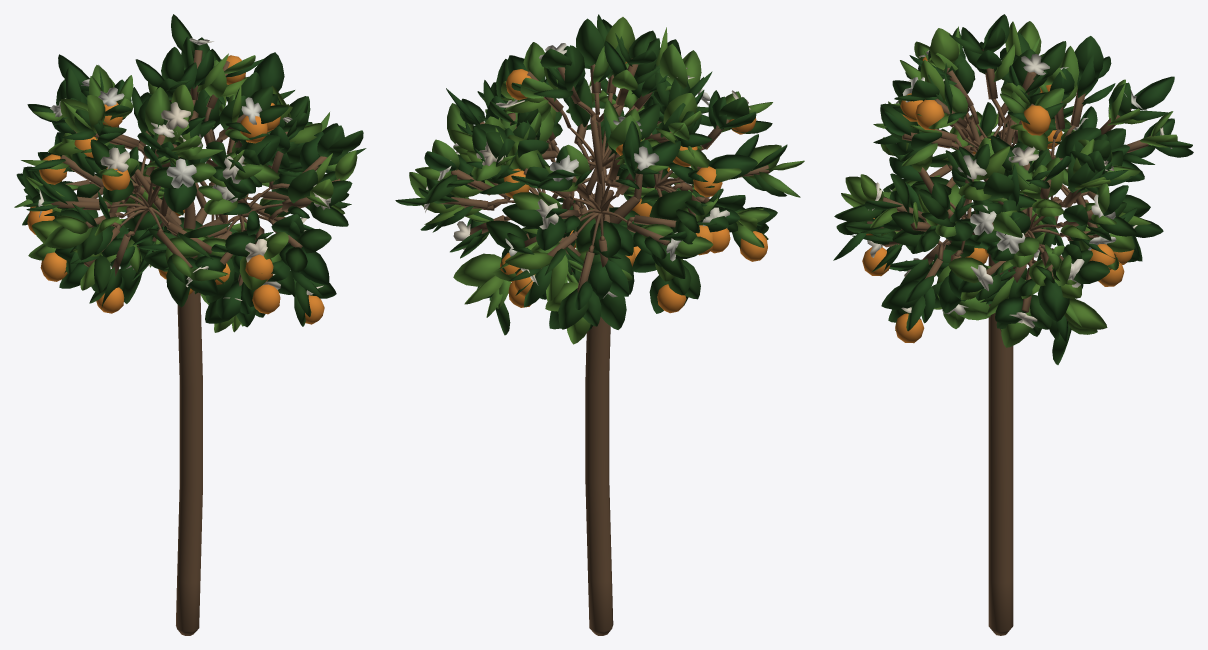
File: potfill_orange.glb
3 renders of one model, left to right at view 1: azimuth 30°, elevation 25°; view 2: azimuth 150°, elevation 25°; view 3: azimuth 270°, elevation 25°, orthographic. The views are drawn at different scales.
Parts seen in each view (by area): view 1: Sammel Pflanze, Sammel Holz; view 2: Sammel Pflanze, Sammel Holz; view 3: Sammel Pflanze, Sammel Holz.
Boxes of the visible parts, x1,y1,x2,y2 form: Sammel Pflanze: (14, 14, 366, 332); Sammel Holz: (50, 50, 340, 635); Sammel Pflanze: (395, 14, 804, 344); Sammel Holz: (440, 58, 769, 635); Sammel Pflanze: (833, 14, 1193, 364); Sammel Holz: (867, 49, 1151, 635).
Size of the model in its own units: 0.6152 by 1.08 by 0.5868.
